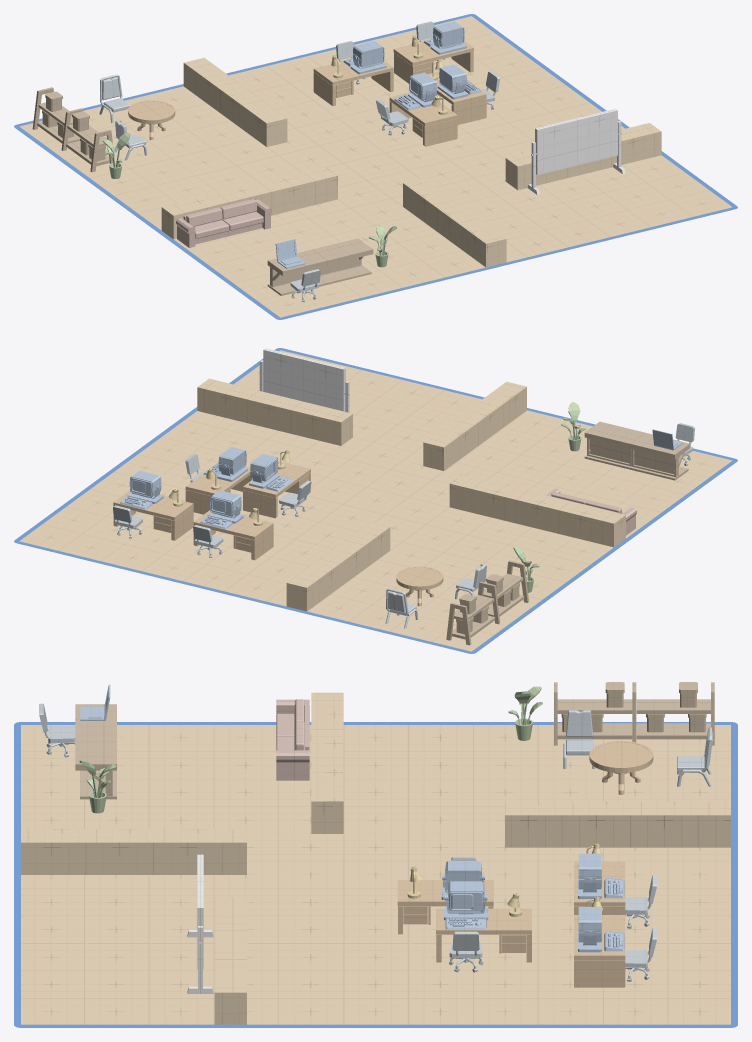
Rendered from office.glb.
3 renders of one model, top to bottom at view 1: azimuth 30°, elevation 25°; view 2: azimuth 150°, elevation 25°; view 3: azimuth 270°, elevation 25°, orthographic. The views are drawn at different scales.
Visible parts, largest first — view 1: static-floor, colored-border, static-board, static-cabinet, static-counter, static-sofa, static-work-desk.001, static-work-desk.003, static-work-desk.002, static-cafe-table, static-work-desk.004, static-pc (+8 smaller); view 2: static-floor, colored-border, static-board, static-counter, static-cabinet, static-work-desk.002, static-work-desk.003, static-work-desk.001, static-work-desk.004, static-pc.002, static-pc.001, static-cafe-table (+8 smaller); view 3: static-floor, colored-border, static-cabinet, static-counter, static-sofa, static-work-desk.002, static-work-desk.004, static-work-desk.003, static-pc.003, static-cafe-table, static-pc.002, static-pc.001 (+11 smaller).
Boxes of the visible parts, box(x1,y1,x2,y2) form: static-floor: box(19, 16, 732, 317); colored-border: box(14, 14, 737, 319); static-board: box(527, 108, 625, 194); static-cabinet: box(32, 87, 114, 172); static-counter: box(267, 238, 373, 295); static-sofa: box(176, 199, 271, 247); static-work-desk.001: box(313, 61, 393, 105); static-work-desk.003: box(389, 92, 457, 146); static-work-desk.002: box(393, 41, 473, 83); static-cafe-table: box(128, 100, 175, 139); static-work-desk.004: box(427, 71, 486, 124); static-pc: box(394, 72, 436, 110); static-floor: box(19, 350, 732, 651); colored-border: box(14, 348, 737, 653); static-board: box(259, 348, 353, 427); static-counter: box(584, 421, 690, 480); static-cabinet: box(446, 560, 528, 645); static-work-desk.002: box(113, 490, 193, 540); static-work-desk.003: box(243, 461, 310, 518); static-work-desk.001: box(193, 510, 273, 560); static-work-desk.004: box(185, 466, 252, 514); static-pc.002: box(120, 470, 163, 509); static-pc.001: box(200, 490, 243, 529); static-cafe-table: box(396, 566, 443, 606); static-floor: box(21, 692, 730, 1024); colored-border: box(14, 722, 737, 1027); static-cabinet: box(554, 682, 714, 745); static-counter: box(75, 704, 116, 799); static-sofa: box(276, 699, 309, 780); static-work-desk.002: box(574, 915, 625, 987); static-work-desk.004: box(436, 908, 531, 962); static-work-desk.003: box(397, 880, 493, 934); static-pc.003: box(444, 881, 488, 929); static-cafe-table: box(589, 741, 653, 794); static-pc.002: box(578, 907, 624, 952); static-pc.001: box(578, 853, 624, 898).
Size of what is drawn, in the model's own units: 10.2 by 1.31 by 10.2.
10 materials, 9 textured.
